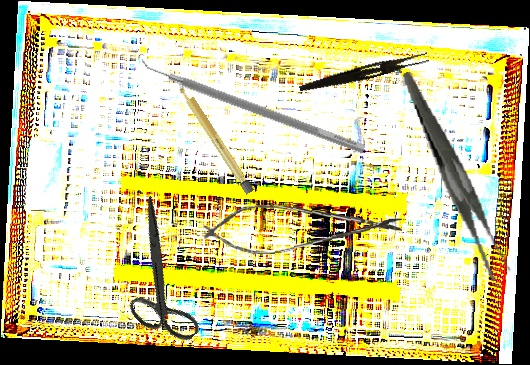Dressing Forceps: (402, 62, 512, 290), (298, 48, 430, 98)
Iris Scissors: (81, 196, 239, 357)
Micro Scissor: (202, 197, 404, 258)
Scalpel Handle: (176, 81, 255, 195)
Spatula Surgical: (137, 52, 370, 155)
